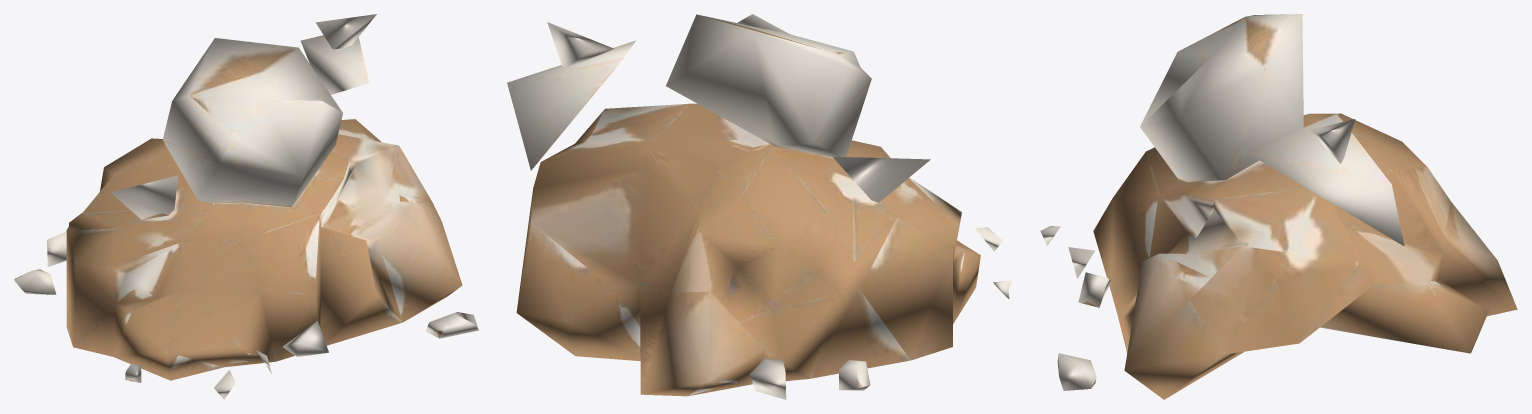
File: source_plastic-lod1.7e1f20c9a734.glb
The picture shows the model from 3 angles, left to right: view 1: azimuth 30°, elevation 25°; view 2: azimuth 150°, elevation 25°; view 3: azimuth 270°, elevation 25°; orthographic projection. The views are drawn at different scales.
Size of the model in its own units: 0.9263 by 0.6487 by 0.9559.
1 material, 1 textured.
